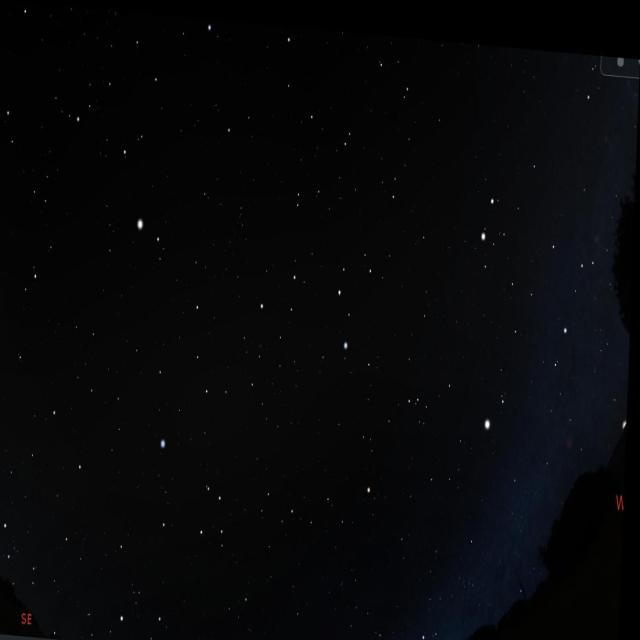bootes: (90, 21, 178, 256)
canis_minor: (479, 372, 517, 445)
gemini: (472, 174, 594, 324)
leo: (242, 229, 390, 365)
